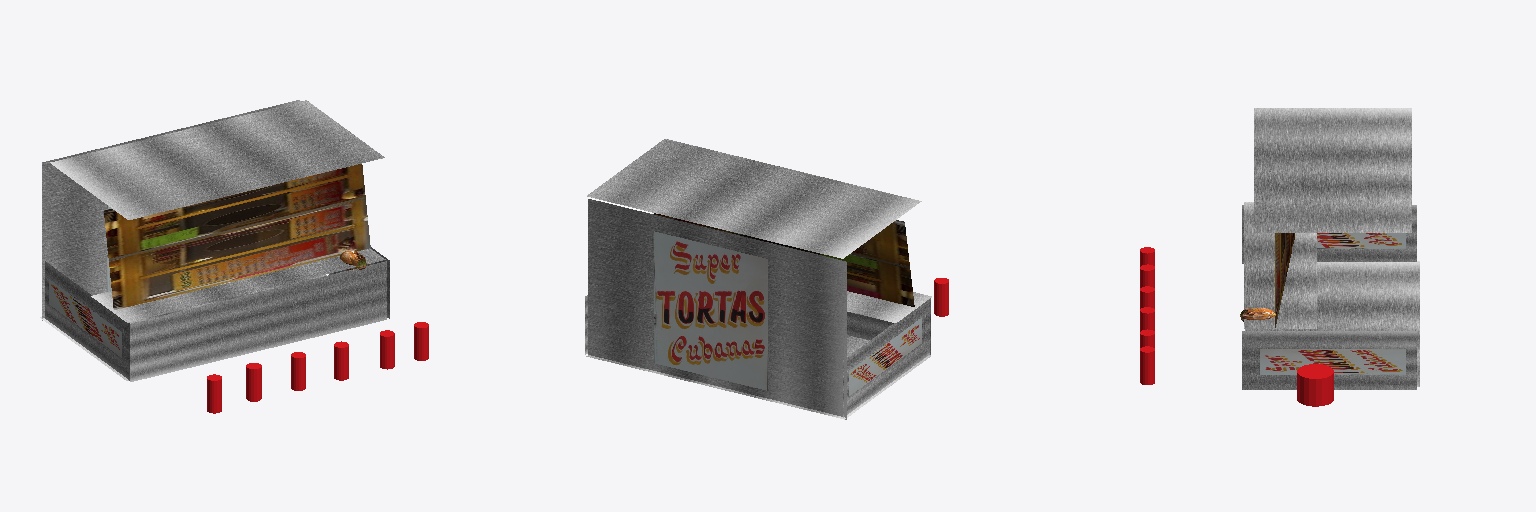
3 views of the same model, side by side, from view 1: azimuth 30°, elevation 25°; view 2: azimuth 150°, elevation 25°; view 3: azimuth 270°, elevation 25° (orthographic).
Visible parts, largest first — view 1: Box008, Box003, Box007, Box002, Box005, Box004, Cylinder002, Box001, Cylinder003, Cylinder006, Cylinder001, Cylinder005 (+1 smaller); view 2: Box002, Box003, Box005, Box008, Box004, Box001, Box007, Cylinder001; view 3: Box003, Box006, Box001, Box004, Box005, Cylinder007, Box008, Cylinder006.
Boxes of the visible parts, <box> form: Box008: <box>104,164,370,310</box>; Box003: <box>50,100,384,219</box>; Box007: <box>130,261,386,381</box>; Box002: <box>42,100,299,320</box>; Box005: <box>45,261,129,380</box>; Box004: <box>91,248,385,322</box>; Cylinder002: <box>246,363,261,401</box>; Box001: <box>40,275,326,380</box>; Cylinder003: <box>291,352,305,390</box>; Cylinder006: <box>414,322,428,360</box>; Cylinder001: <box>207,374,221,413</box>; Cylinder005: <box>380,330,394,369</box>; Box002: <box>588,199,846,419</box>; Box003: <box>587,139,921,258</box>; Box005: <box>843,299,929,417</box>; Box008: <box>654,213,914,306</box>; Box004: <box>847,291,931,322</box>; Box001: <box>586,335,930,419</box>; Box007: <box>847,298,930,354</box>; Cylinder001: <box>934,278,948,316</box>; Box003: <box>1254,108,1411,232</box>; Box006: <box>1242,331,1416,389</box>; Box001: <box>1245,261,1419,386</box>; Box004: <box>1244,202,1316,328</box>; Box005: <box>1242,205,1416,263</box>; Cylinder007: <box>1297,364,1333,406</box>; Box008: <box>1275,233,1294,327</box>; Cylinder006: <box>1140,346,1154,384</box>.
Bounding box in the file's own units: 86.85 × 45.03 × 71.68.
Materials: 5 (5 with a texture image).